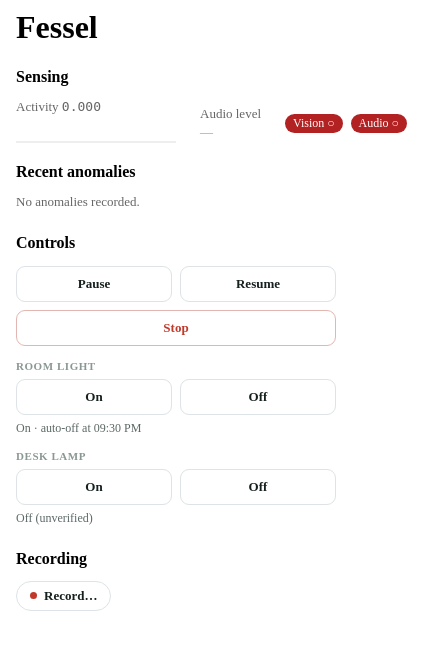
Test: action failure (F3.2) › renders the supervisor diagnostic inline on a 5xx
What coordinates should you click on to do the following:
click the button with aria-label "Desk lamp on"
I would click on:
 (94, 487)
Its box is [16,469,172,505].
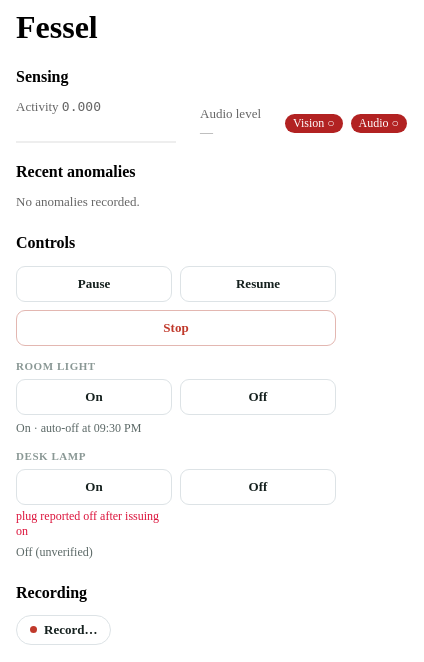
Expected: the text "plug reported off after issuing on" is shown, [16,509,172,539]
